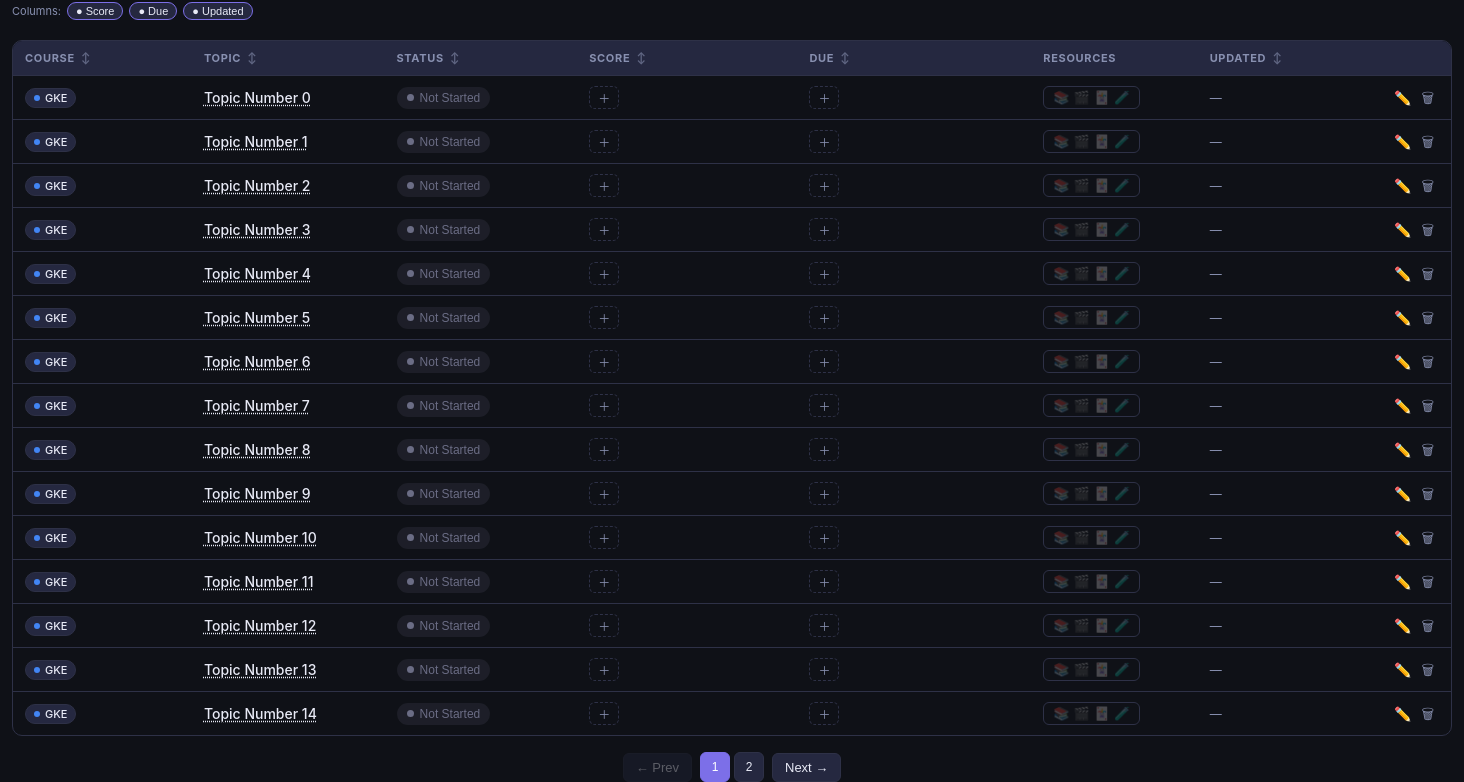
Test: TopicsView › navigating to next page shows page 2 content
The image size is (1464, 782).
(page scrolled)
Click the button "Next →": (807, 767) 772,752 -> 841,781
(page scrolled)
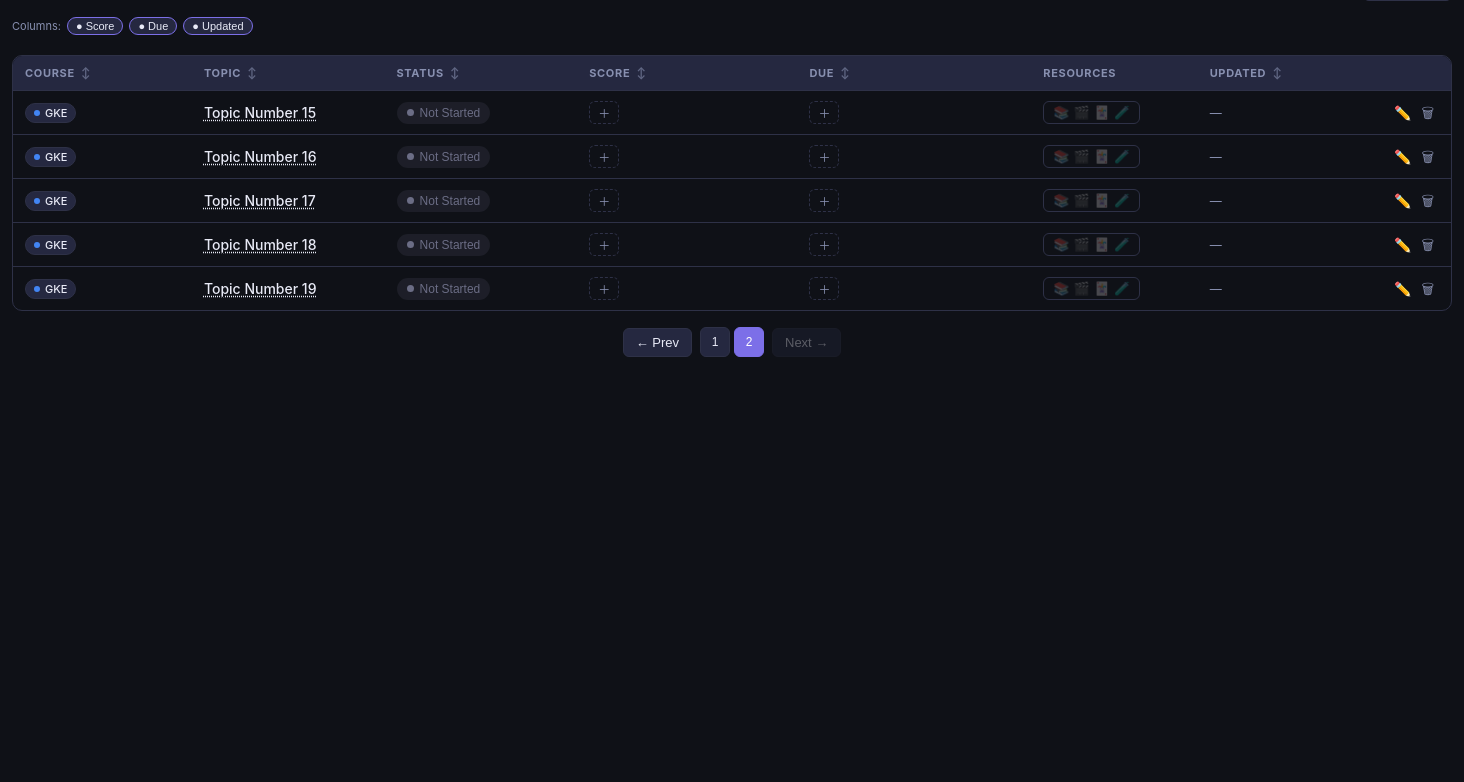
Expected: the button "Topic Number 15" is shown, 204,104 -> 316,121
Expected: the button "Topic Number 0" is gone
